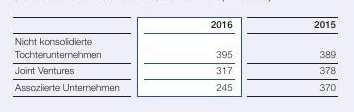table: (0, 0, 354, 112)
